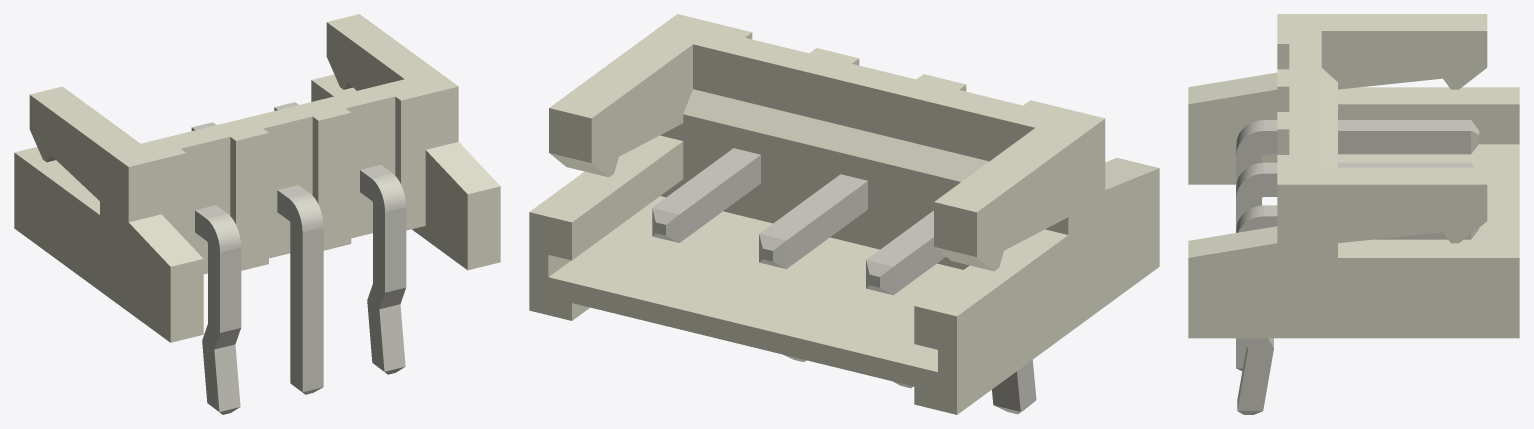
Rendered from kc-jst_eh_s3b-eh_1x03_p2.50mm_horizontal.glb.
3 renders of one model, left to right at view 1: azimuth 30°, elevation 25°; view 2: azimuth 150°, elevation 25°; view 3: azimuth 270°, elevation 25°, orthographic. The views are drawn at different scales.
Parts seen in each view (by area): view 1: 0.75_0.75_0.5833333333333334_0, 0.6666666666666666_0.6666666666666666_0.5833333333333334_0.8; view 2: 0.75_0.75_0.5833333333333334_0, 0.6666666666666666_0.6666666666666666_0.5833333333333334_0.8; view 3: 0.75_0.75_0.5833333333333334_0, 0.6666666666666666_0.6666666666666666_0.5833333333333334_0.8.
Boxes of the visible parts, x1,y1,x2,y2 form: 0.75_0.75_0.5833333333333334_0: (14,14,500,342); 0.6666666666666666_0.6666666666666666_0.5833333333333334_0.8: (191,102,406,414); 0.75_0.75_0.5833333333333334_0: (529,14,1159,414); 0.6666666666666666_0.6666666666666666_0.5833333333333334_0.8: (652,148,1036,414); 0.75_0.75_0.5833333333333334_0: (1188,14,1519,338); 0.6666666666666666_0.6666666666666666_0.5833333333333334_0.8: (1236,120,1479,414).
Bounding box in the file's own units: 1 × 0.74 × 0.8201.
